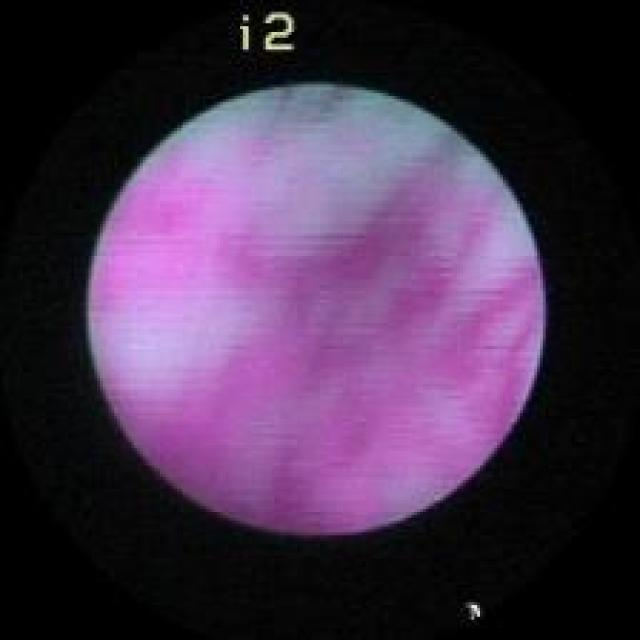blur: (93, 85, 547, 541)
color misalignment: (233, 6, 323, 70), (458, 584, 489, 626)
